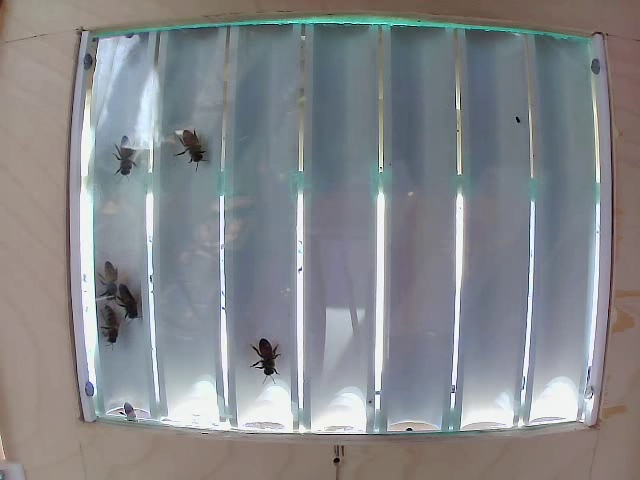bee: (247, 330, 290, 389), (106, 141, 160, 184), (111, 274, 144, 315), (183, 121, 210, 169), (93, 258, 125, 295), (104, 317, 132, 355)
